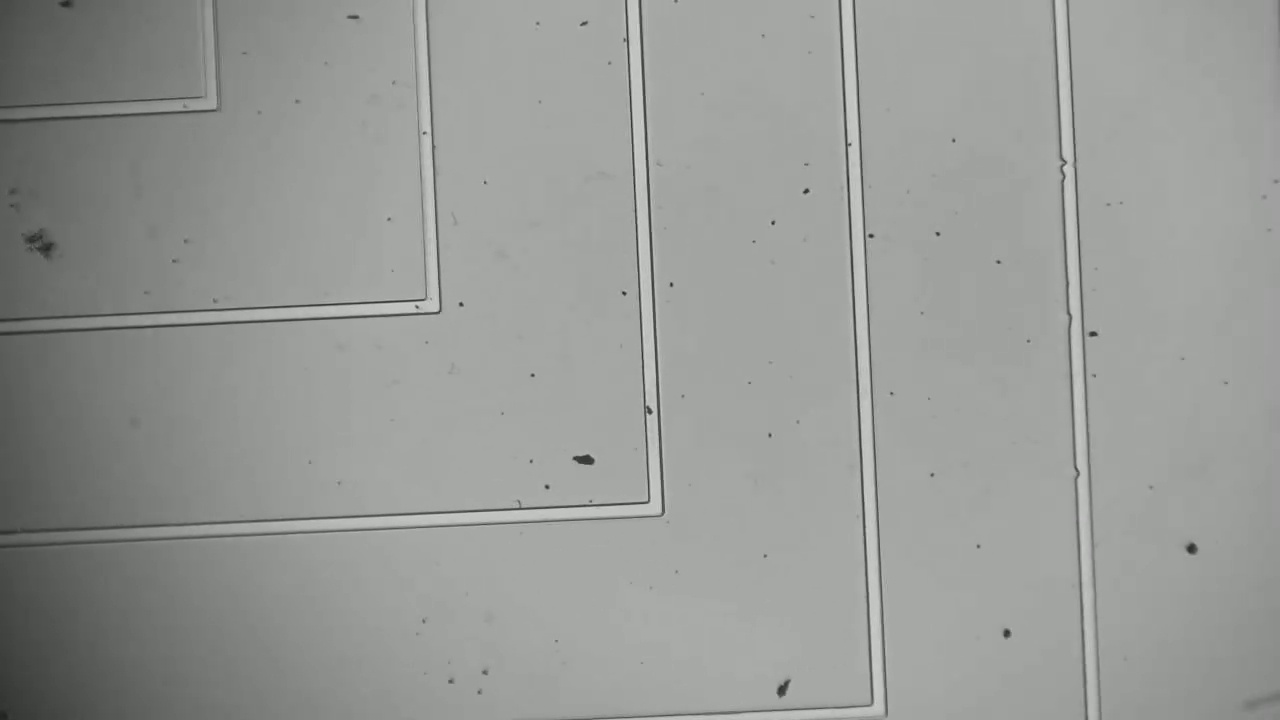edge_bite: (1056, 307, 1093, 337), (1068, 459, 1098, 487), (1053, 152, 1086, 177)
stains_enbedded: (638, 398, 666, 426)
